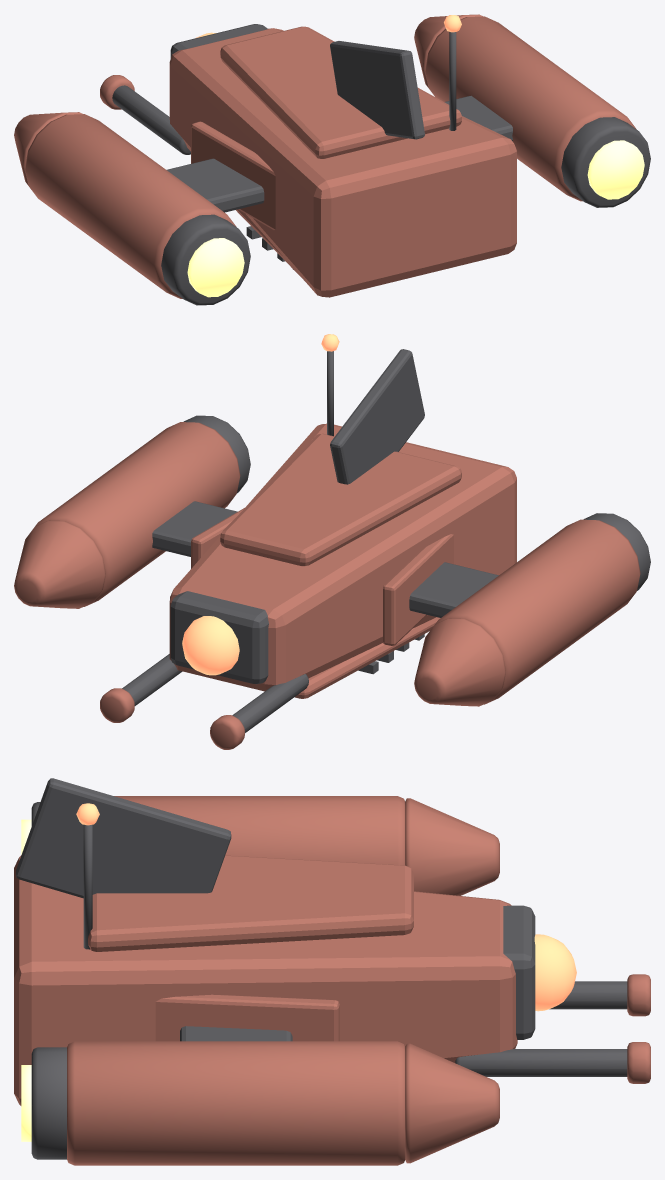
File: jaeger.glb
3 renders of one model, top to bottom at view 1: azimuth 30°, elevation 25°; view 2: azimuth 150°, elevation 25°; view 3: azimuth 270°, elevation 25°, orthographic. The views are drawn at different scales.
Visible parts, largest first — view 1: Rumpf, Gondel-1, Gondel1, Deckplatte, Finne, Duesenring1, Duesenring-1, Flanke-1, Strebe-1, Duese1, Duese-1, Lauf-1 (+6 smaller); view 2: Rumpf, Gondel-1, Deckplatte, Gondel1, Finne, Gondelspitze1, Gondelspitze-1, Augenfassung, Flanke-1, Strebe-1, Auge, Strebe1 (+9 smaller); view 3: Rumpf, Gondel1, Deckplatte, Finne, Gondel-1, Gondelspitze1, Gondelspitze-1, Flanke1, Lauf1, Duesenring1, Augenfassung, Auge (+6 smaller).
Part boxes in pixels (<box>): Rumpf: <box>169,28,516,297</box>; Gondel-1: <box>25,114,236,298</box>; Gondel1: <box>425,16,635,201</box>; Deckplatte: <box>220,26,461,158</box>; Finne: <box>330,41,424,139</box>; Duesenring1: <box>561,117,650,207</box>; Duesenring-1: <box>161,214,250,305</box>; Flanke-1: <box>191,121,275,229</box>; Strebe-1: <box>167,158,264,212</box>; Duese1: <box>587,140,644,199</box>; Duese-1: <box>187,238,244,297</box>; Lauf-1: <box>112,85,190,154</box>; Rumpf: <box>169,423,516,691</box>; Gondel-1: <box>434,519,640,704</box>; Deckplatte: <box>220,433,461,566</box>; Gondel1: <box>35,422,240,606</box>; Finne: <box>330,349,424,484</box>; Gondelspitze1: <box>14,520,105,608</box>; Gondelspitze-1: <box>414,618,505,706</box>; Augenfassung: <box>170,591,268,684</box>; Flanke-1: <box>383,534,453,645</box>; Strebe-1: <box>409,562,498,617</box>; Auge: <box>182,616,239,675</box>; Strebe1: <box>152,501,237,556</box>; Rumpf: <box>14,855,517,1105</box>; Gondel1: <box>67,1041,405,1165</box>; Deckplatte: <box>88,855,413,951</box>; Finne: <box>16,778,231,898</box>; Gondel-1: <box>114,796,405,865</box>; Gondelspitze1: <box>405,1043,499,1163</box>; Gondelspitze-1: <box>405,798,499,895</box>; Flanke1: <box>155,994,339,1041</box>; Lauf1: <box>455,1049,627,1076</box>; Duesenring1: <box>31,1047,66,1159</box>; Augenfassung: <box>503,905,535,1039</box>; Auge: <box>534,934,576,1011</box>.
Size of the model in its own units: 2.38 by 1.17 by 2.15.
